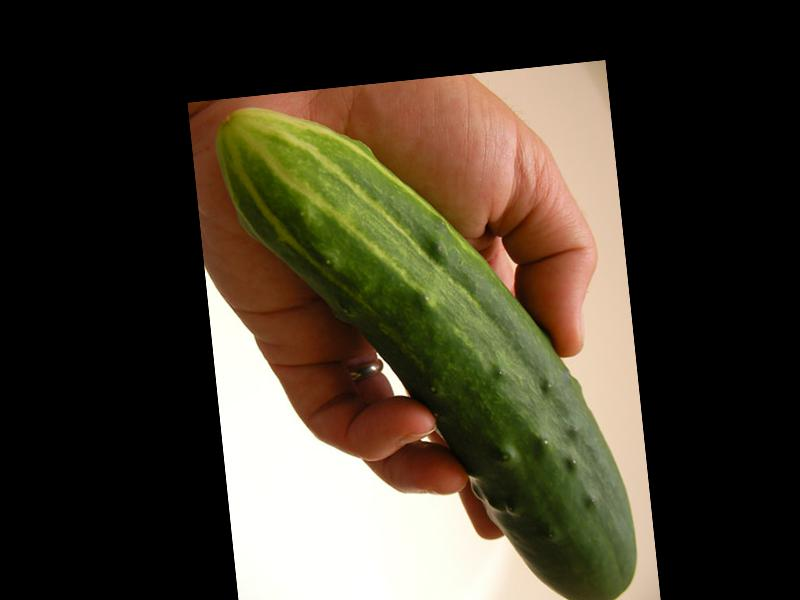Cucumber: (213, 75, 640, 600)
